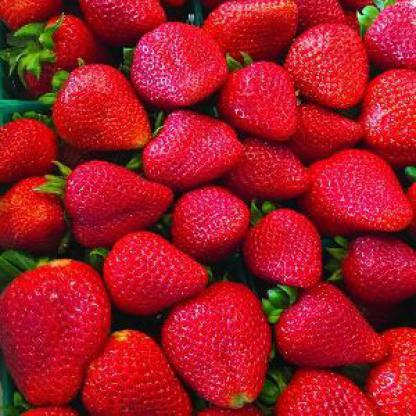strawberry: (0, 264, 110, 410), (164, 280, 270, 409), (272, 278, 388, 367), (302, 146, 409, 232), (81, 330, 188, 415), (61, 164, 172, 245), (54, 61, 151, 151), (98, 233, 206, 313), (130, 21, 224, 109), (139, 111, 244, 186), (286, 21, 369, 111), (238, 205, 322, 290), (220, 60, 297, 140), (169, 187, 247, 261), (341, 228, 415, 303), (264, 368, 377, 414), (368, 70, 414, 166)
